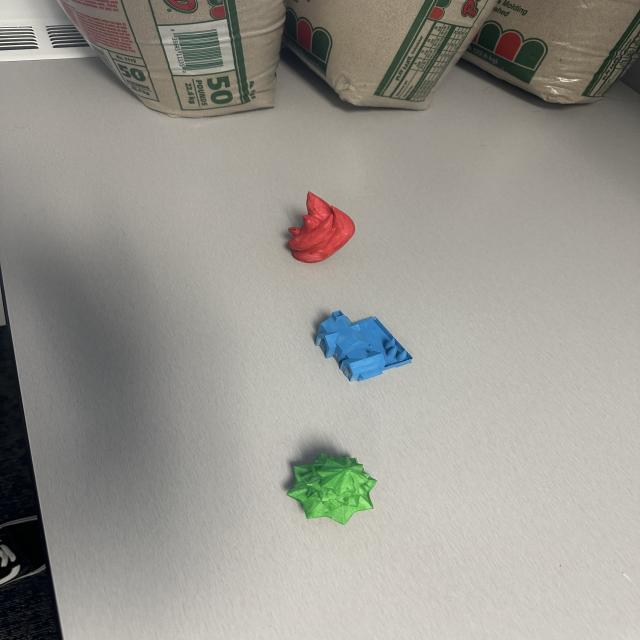fire: (284, 189, 356, 264)
house: (312, 307, 414, 383)
tree: (284, 451, 379, 526)
